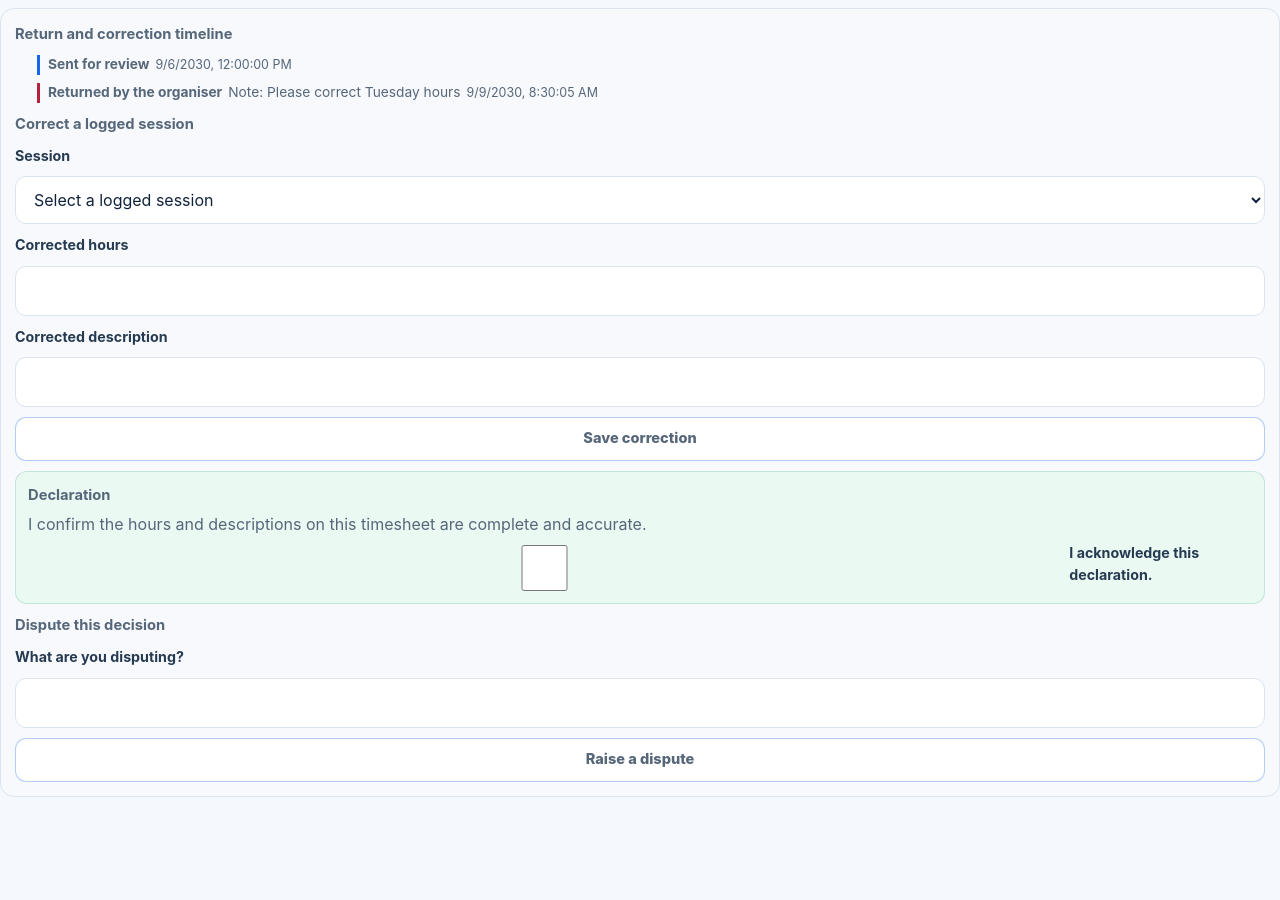
Test: TimesheetCorrectionPanel › explains that a locked week cannot be corrected
This screenshot has width=1280, height=900.
Select "2030-09-03: 2.5h - Tuesday lab" in the dropdown labelled "Session" at (640, 200), box x1=15 y1=176 x2=1265 y2=224
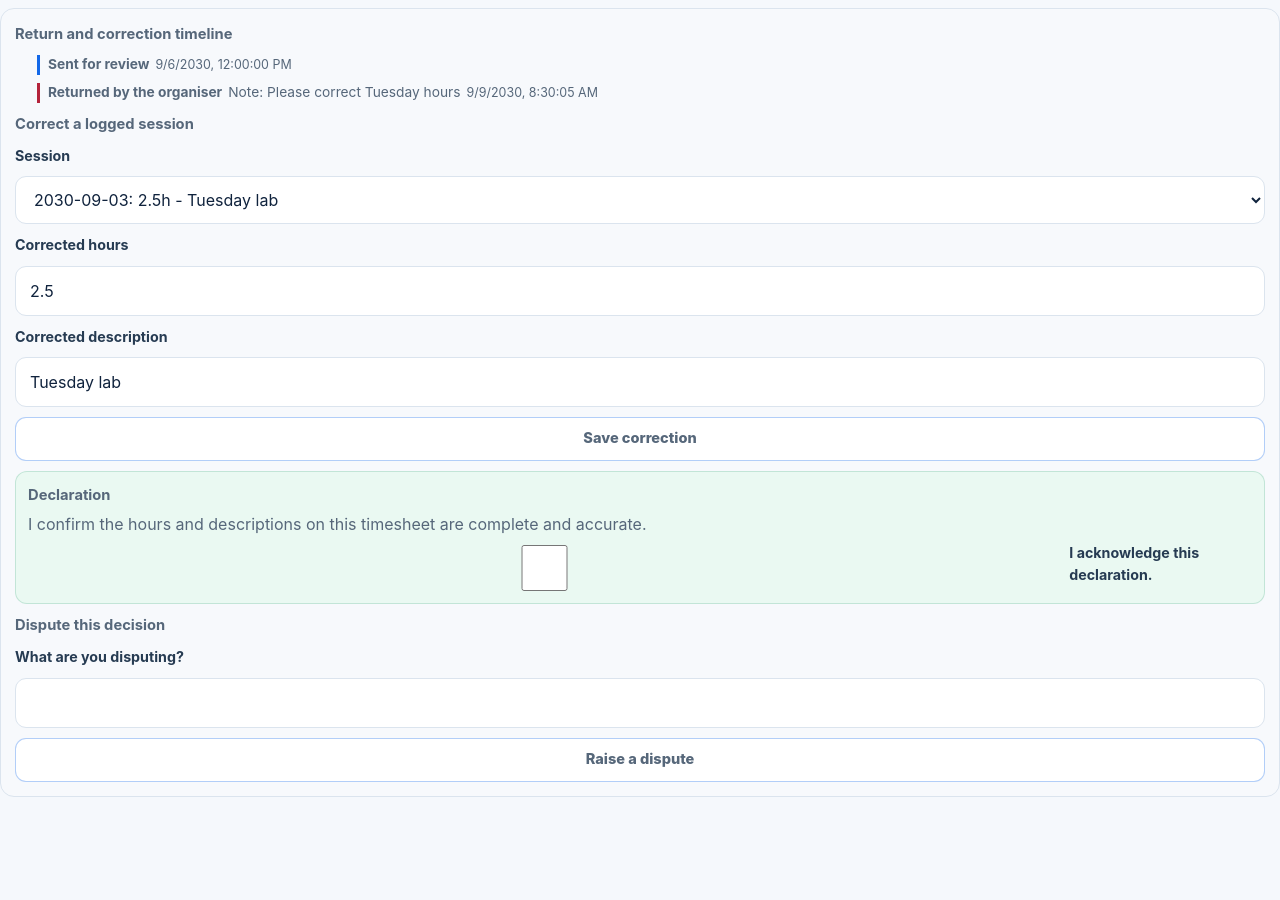
Click the button "Save correction" at (640, 439), box x1=15 y1=417 x2=1265 y2=461
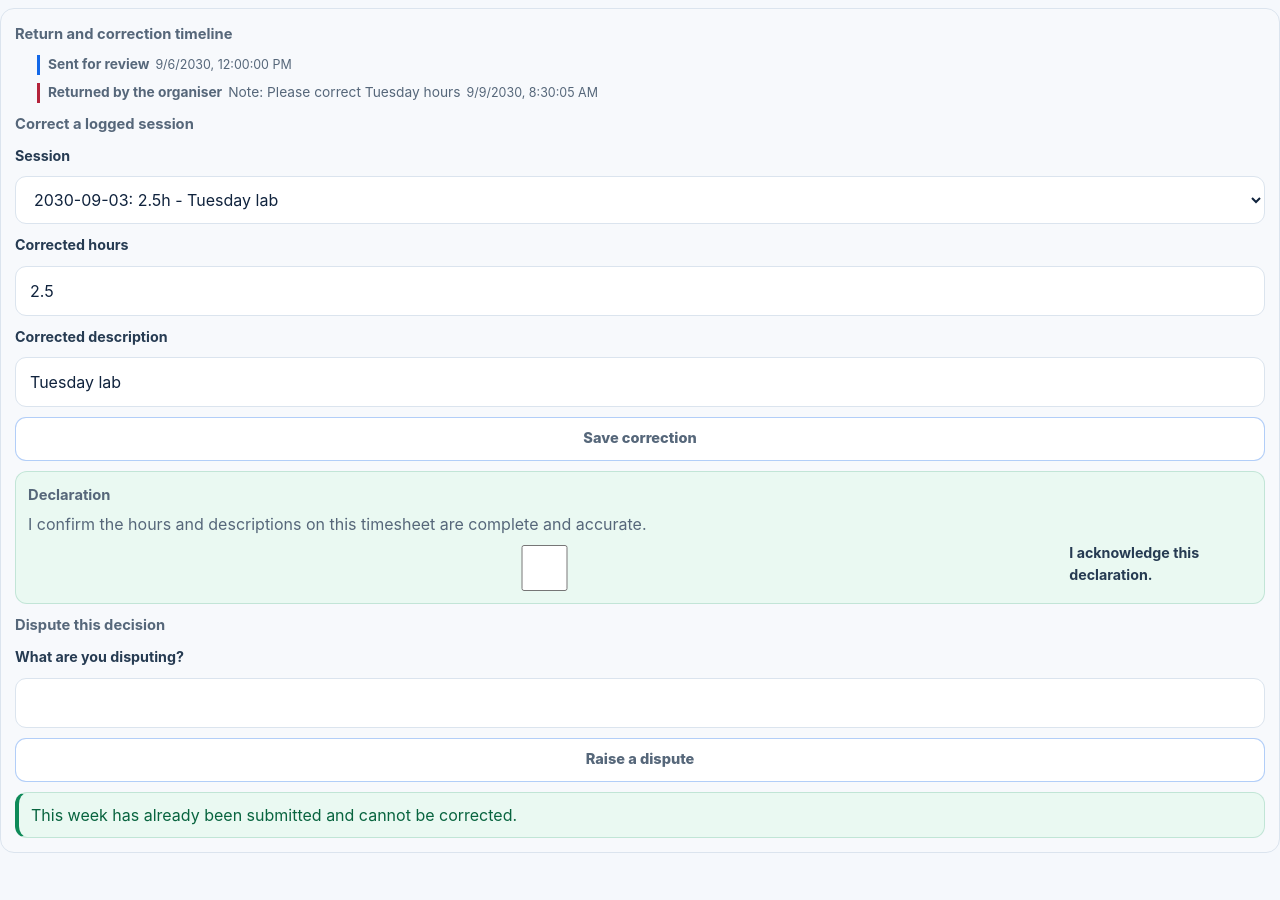
expect the message shows "already been submitted and cannot be corrected": met, box x1=31 y1=805 x2=517 y2=825
